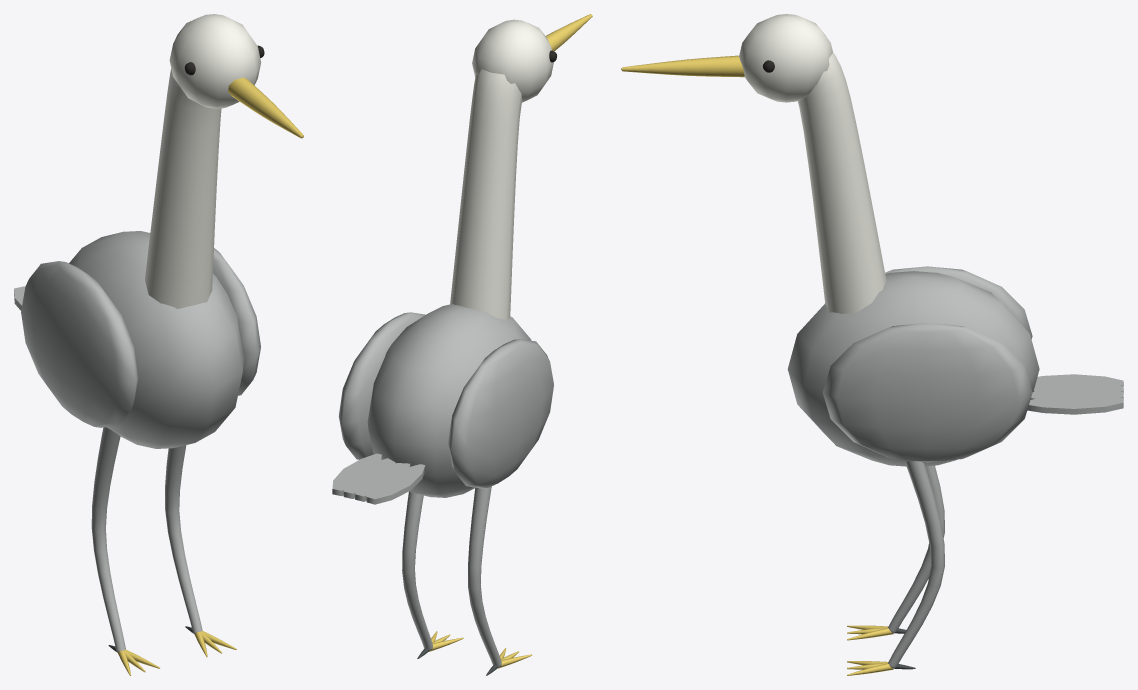
The model's file is birds-and-flying-creatures-grey-heron-bb365d0f__20590.glb.
The picture shows the model from 3 angles, left to right: view 1: azimuth 30°, elevation 25°; view 2: azimuth 150°, elevation 25°; view 3: azimuth 270°, elevation 25°; orthographic projection. The views are drawn at different scales.
Visible parts, largest first — view 1: grey-heron; view 2: grey-heron; view 3: grey-heron.
Boxes of the visible parts, x1,y1,x2,y2 form: grey-heron: (14, 14, 303, 675); grey-heron: (332, 14, 592, 675); grey-heron: (621, 14, 1123, 675).
Bounding box in the file's own units: 0.3756 × 1.44 × 1.03.
